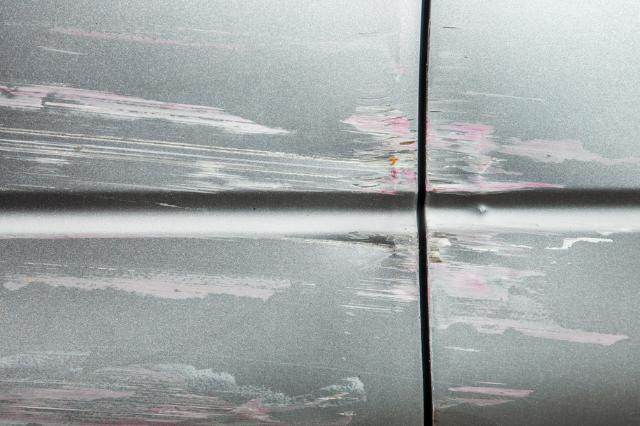Door: (2, 7, 597, 426)
